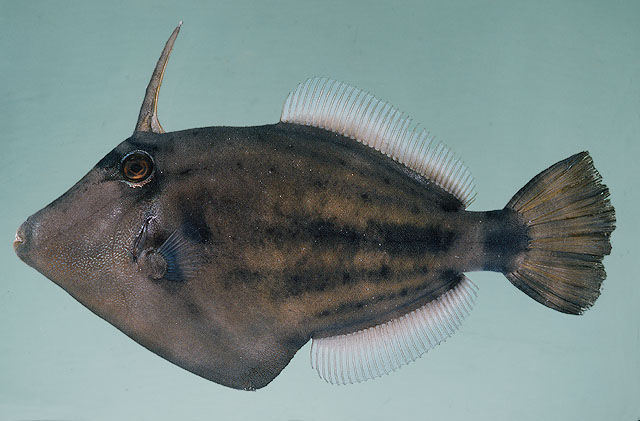fish: (15, 22, 615, 393)
